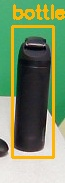bottle: (12, 26, 53, 157)
